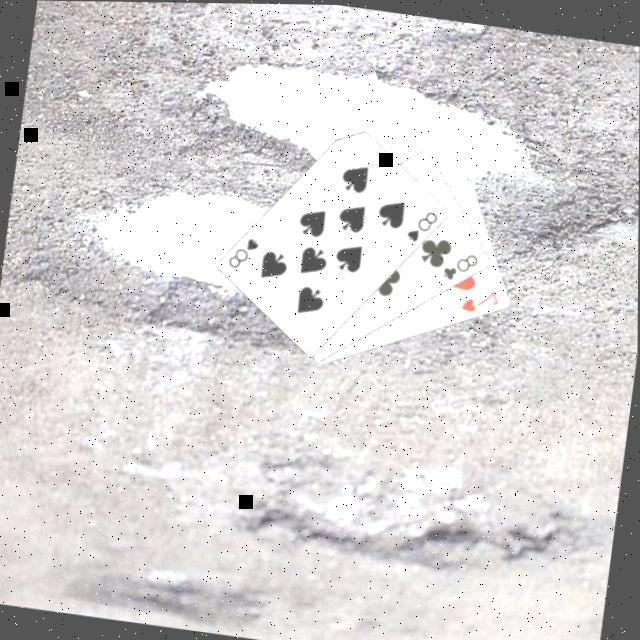7H: (456, 283, 502, 319)
8C: (437, 246, 481, 287)
8S: (402, 205, 441, 248), (224, 232, 262, 274)
